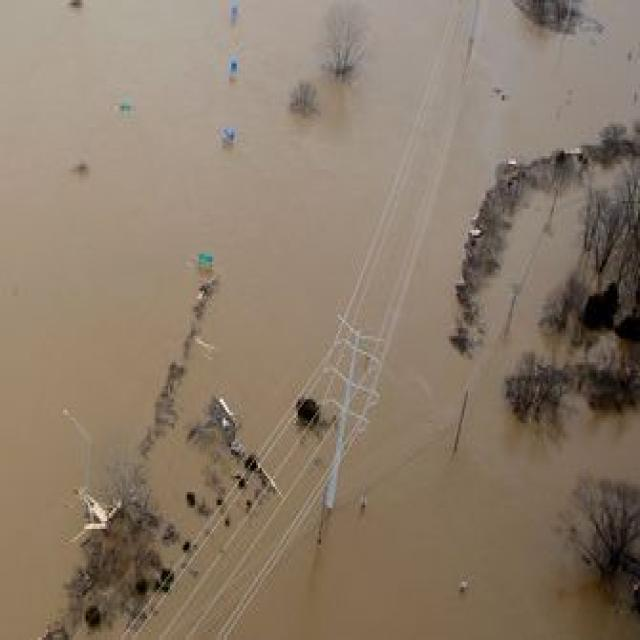flooded_areas: (2, 63, 581, 627)
